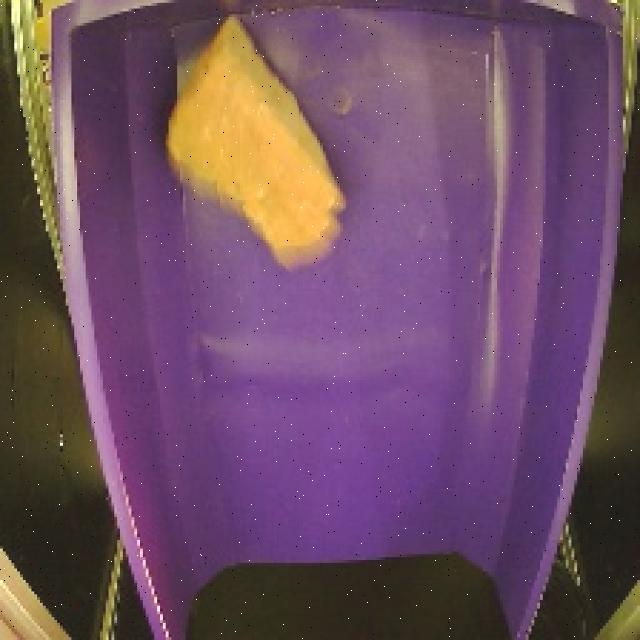brick: (158, 11, 355, 278)
